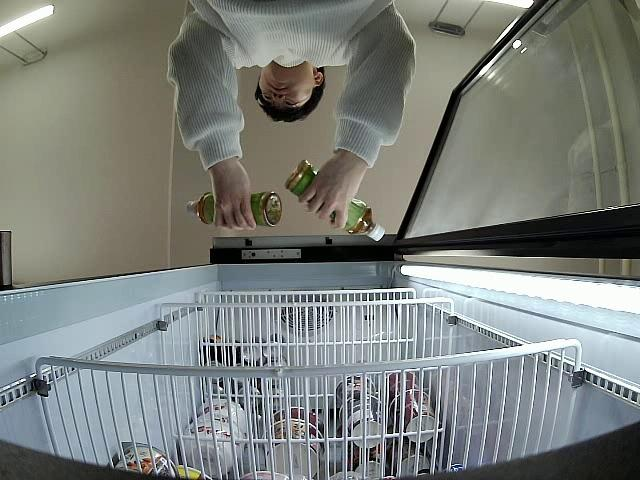00_hand: (299, 155, 364, 230), (211, 168, 257, 232)
19_17cha: (285, 160, 384, 241), (187, 193, 281, 228)
